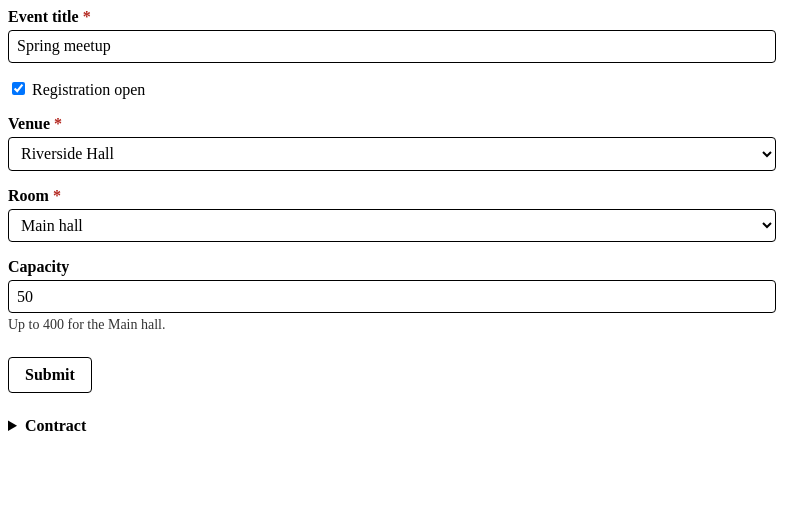
Scenario: submitting example 2 › shows a failure that is no refusal as the form's error
The width and height of the screenshot is (793, 508).
Click the button "Submit". click: (50, 375)
box: [8,357,92,393]
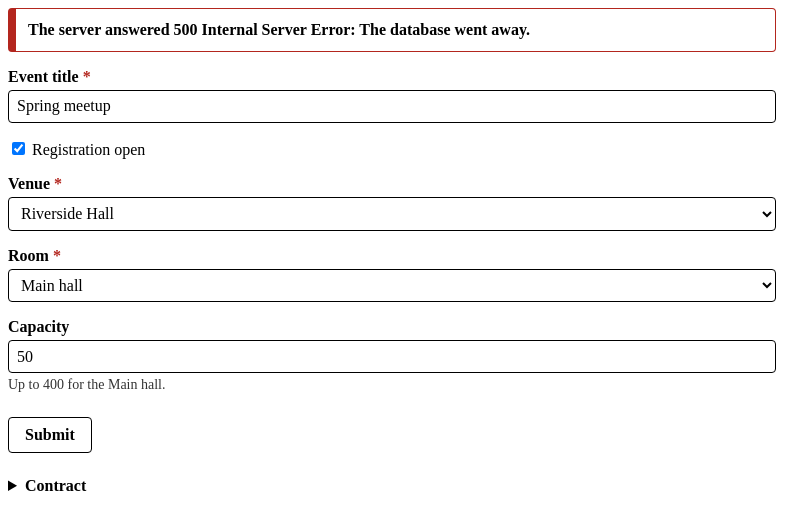
Expected: the message reads "The server answered 500 Internal Server Error: The database went away.", [28,21,530,38]
